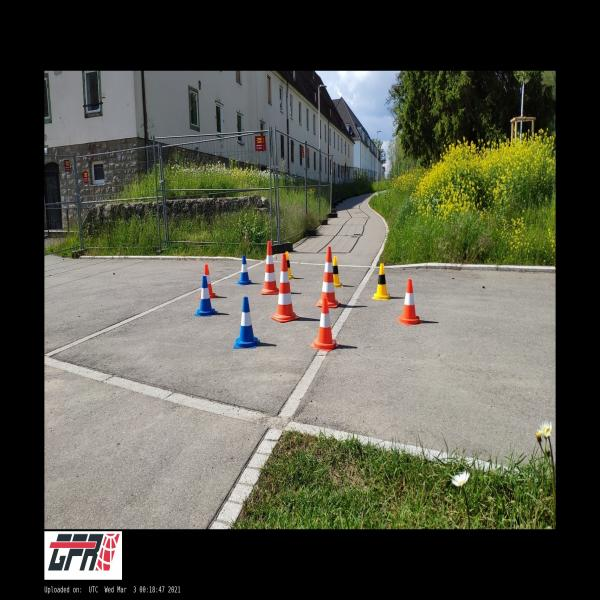blue_cone: (233, 297, 260, 348), (194, 276, 218, 316), (236, 255, 254, 285)
large_orange_cone: (271, 254, 299, 322), (316, 247, 340, 308), (261, 241, 279, 294)
orange_cone: (310, 298, 339, 352), (396, 279, 423, 325), (198, 264, 218, 299)
yellow_cone: (372, 264, 392, 300), (333, 256, 343, 287), (286, 252, 294, 280)
